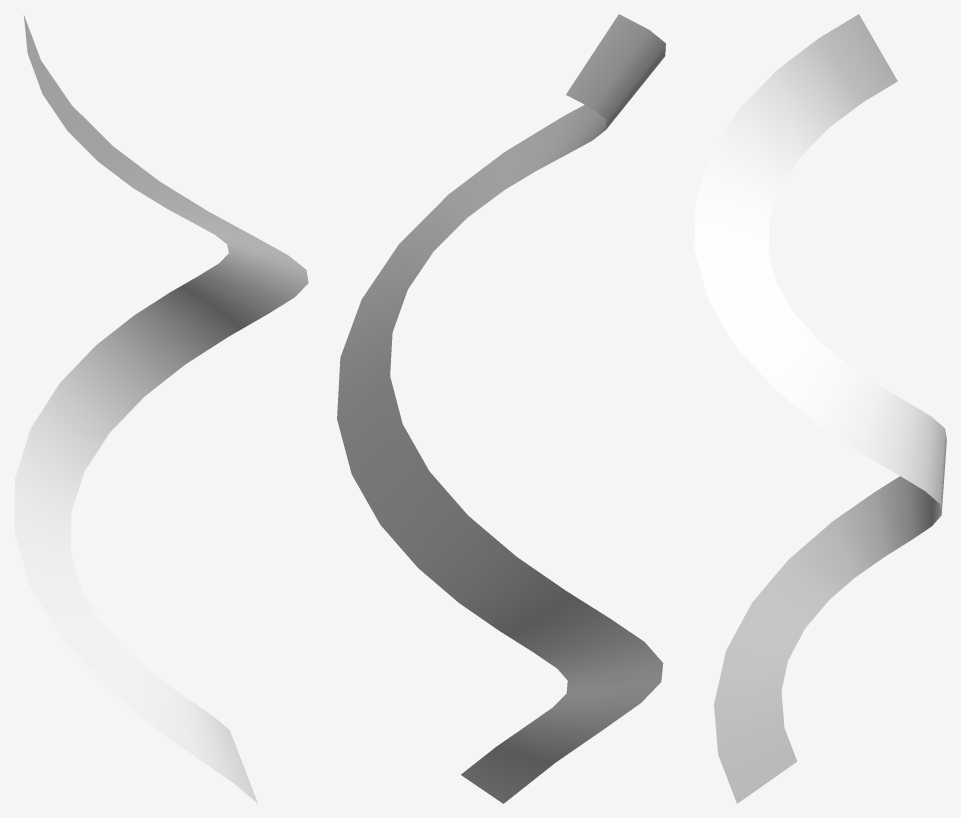
Rendered from helx2.FBX.
3 renders of one model, left to right at view 1: azimuth 30°, elevation 25°; view 2: azimuth 150°, elevation 25°; view 3: azimuth 270°, elevation 25°, orthographic. The views are drawn at different scales.
Parts seen in each view (by area): view 1: helx2; view 2: helx2; view 3: helx2.
Part boxes in pixels (x1,y1,x2,y2): helx2: (14,14,308,803); helx2: (337,14,665,803); helx2: (694,14,946,803).
Bounding box in the file's own units: 147 × 429 × 138.
